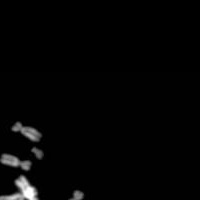chromosome: (14, 174, 43, 200), (11, 119, 41, 143), (0, 186, 38, 200), (0, 153, 31, 170), (61, 189, 83, 200), (29, 145, 45, 159)
